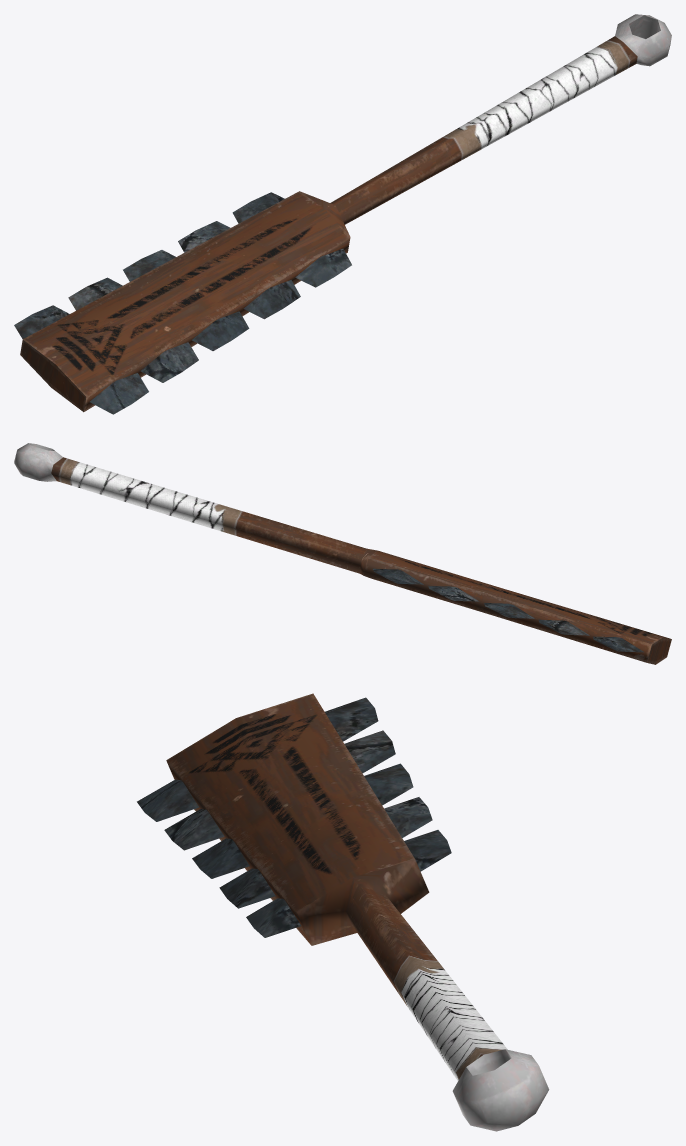
The model's file is weapon-flintweapons.glb.
3 views of the same model, one above another, from view 1: azimuth 30°, elevation 25°; view 2: azimuth 150°, elevation 25°; view 3: azimuth 270°, elevation 25° (orthographic). The views are drawn at different scales.
Bounding box in the file's own units: 1.41 × 0.3145 × 0.4277.
Materials: 1 (1 with a texture image).
